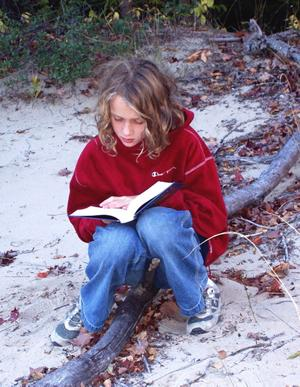person: (49, 59, 230, 348)
